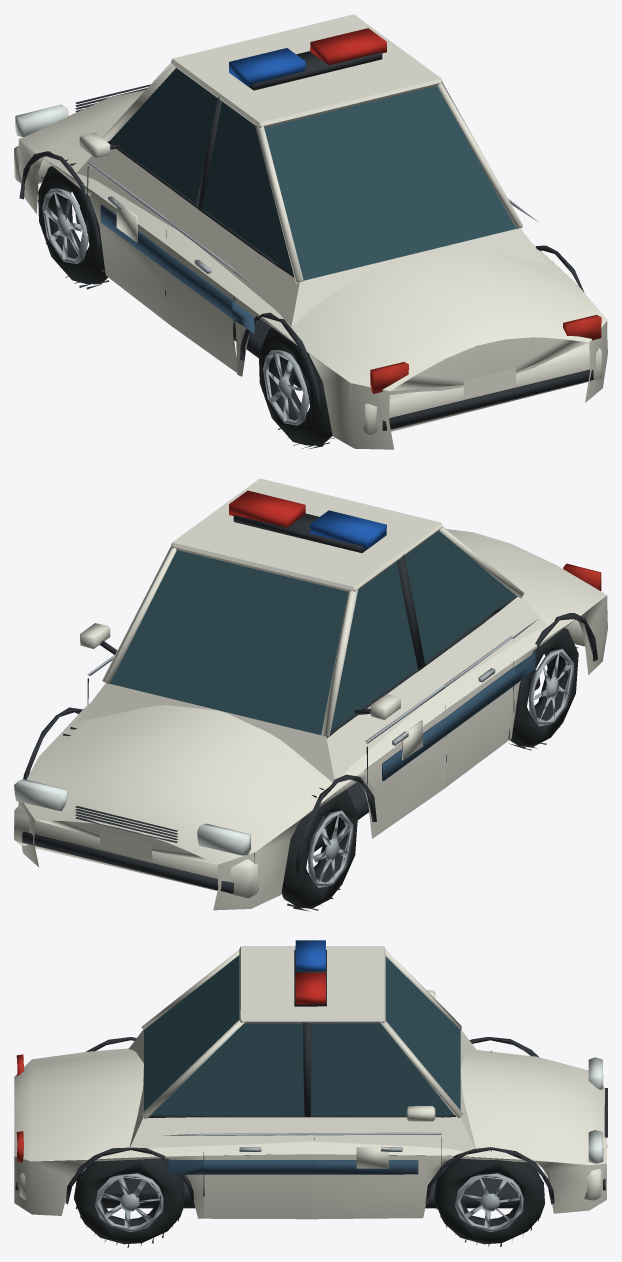
3 views of the same model, one above another, from view 1: azimuth 30°, elevation 25°; view 2: azimuth 150°, elevation 25°; view 3: azimuth 270°, elevation 25° (orthographic). The views are drawn at different scales.
Parts seen in each view (by area): view 1: patrol_car_body, patrol_car_front_left_door, patrol_car_rear_left_door, patrol_car_rear_left_wheel, patrol_car_front_left_wheel; view 2: patrol_car_body, patrol_car_front_left_door, patrol_car_rear_left_door, patrol_car_front_left_wheel, patrol_car_rear_left_wheel, patrol_car_front_right_door; view 3: patrol_car_body, patrol_car_front_right_door, patrol_car_rear_right_door, patrol_car_rear_right_wheel, patrol_car_front_right_wheel.
Part boxes in pixels (bbox=[...]): patrol_car_body: bbox=[14, 14, 607, 449]; patrol_car_front_left_door: bbox=[79, 68, 216, 324]; patrol_car_rear_left_door: bbox=[164, 97, 273, 372]; patrol_car_rear_left_wheel: bbox=[258, 327, 334, 448]; patrol_car_front_left_wheel: bbox=[37, 159, 115, 289]; patrol_car_body: bbox=[14, 478, 607, 910]; patrol_car_front_left_door: bbox=[334, 563, 447, 838]; patrol_car_rear_left_door: bbox=[395, 531, 514, 790]; patrol_car_front_left_wheel: bbox=[280, 788, 357, 911]; patrol_car_rear_left_wheel: bbox=[508, 628, 578, 750]; patrol_car_front_right_door: bbox=[80, 623, 117, 704]; patrol_car_body: bbox=[14, 940, 607, 1218]; patrol_car_front_right_door: bbox=[314, 1023, 441, 1219]; patrol_car_rear_right_door: bbox=[203, 1023, 314, 1219]; patrol_car_rear_right_wheel: bbox=[74, 1156, 185, 1247]; patrol_car_front_right_wheel: bbox=[434, 1150, 544, 1246].
Size of the model in its own units: 1.69 by 1.49 by 3.49.
